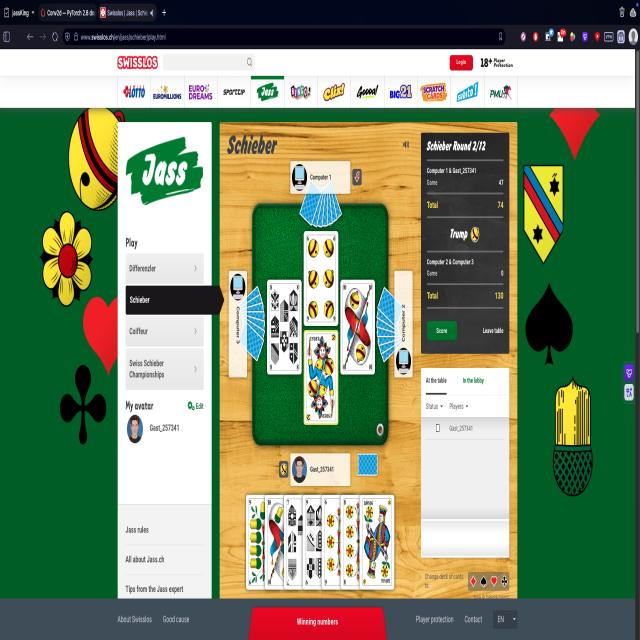ei10: (265, 493, 299, 595)
ei9: (246, 494, 276, 588)
ro6: (323, 493, 356, 592)
ro8: (340, 492, 377, 588)
rok: (360, 494, 394, 590)
se10: (340, 281, 376, 373)
se9: (304, 231, 337, 325)
seu: (304, 331, 338, 424)
si8: (268, 280, 301, 374)
si9: (304, 495, 339, 591)
sik: (286, 494, 322, 596)
